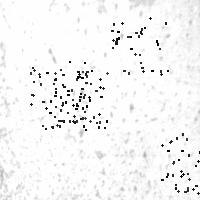pitted_surface: (1, 1, 199, 199), (30, 61, 89, 120), (39, 71, 99, 129), (46, 70, 106, 127), (111, 17, 167, 73), (161, 133, 200, 192)
